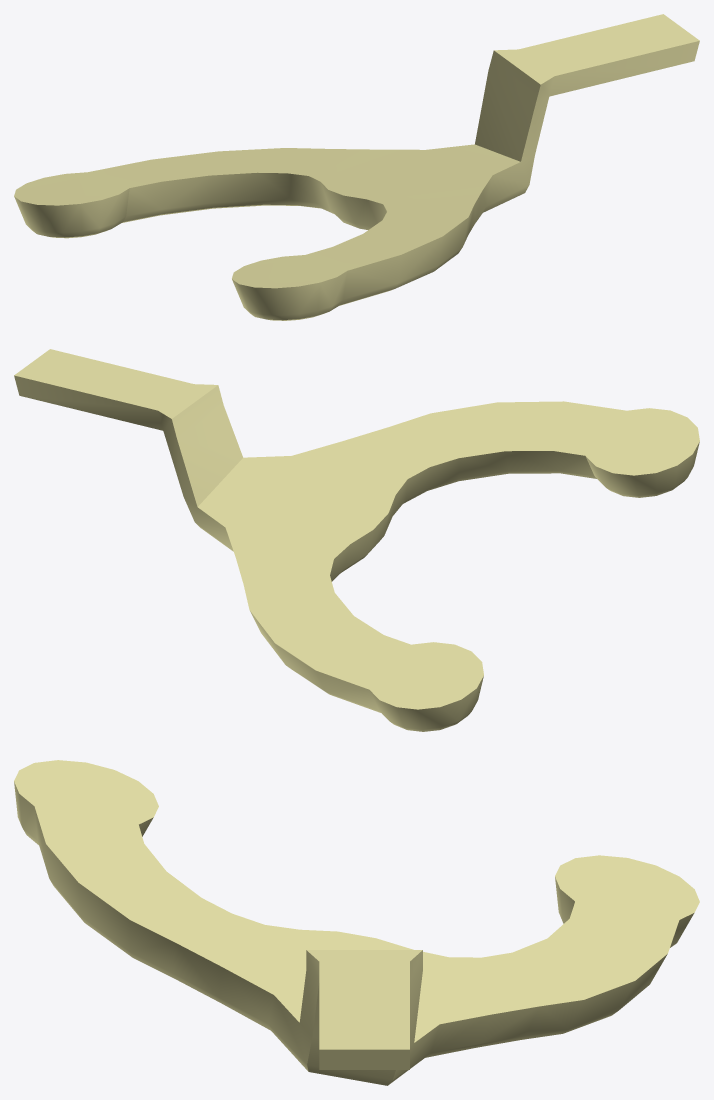
Rendered from original-20.obj.
The picture shows the model from 3 angles, top to bottom: view 1: azimuth 30°, elevation 25°; view 2: azimuth 150°, elevation 25°; view 3: azimuth 270°, elevation 25°; orthographic projection. The views are drawn at different scales.
Visible parts, largest first — view 1: mesh37/mesh37-geometry#mesh37-geometry; view 2: mesh37/mesh37-geometry#mesh37-geometry; view 3: mesh37/mesh37-geometry#mesh37-geometry.
Part boxes in pixels (box(x1,y1,x2,y2)): mesh37/mesh37-geometry#mesh37-geometry: box(14, 14, 699, 320); mesh37/mesh37-geometry#mesh37-geometry: box(14, 349, 699, 731); mesh37/mesh37-geometry#mesh37-geometry: box(14, 760, 699, 1085).
Size of the model in its own units: 0.1895 by 0.0518 by 0.1634.
